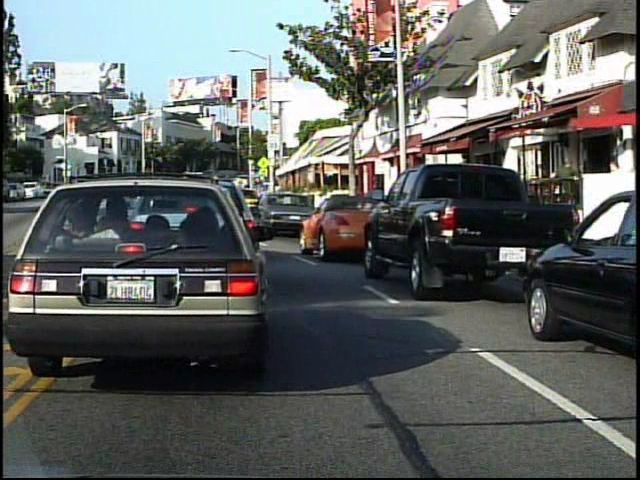person: (554, 153, 583, 225)
